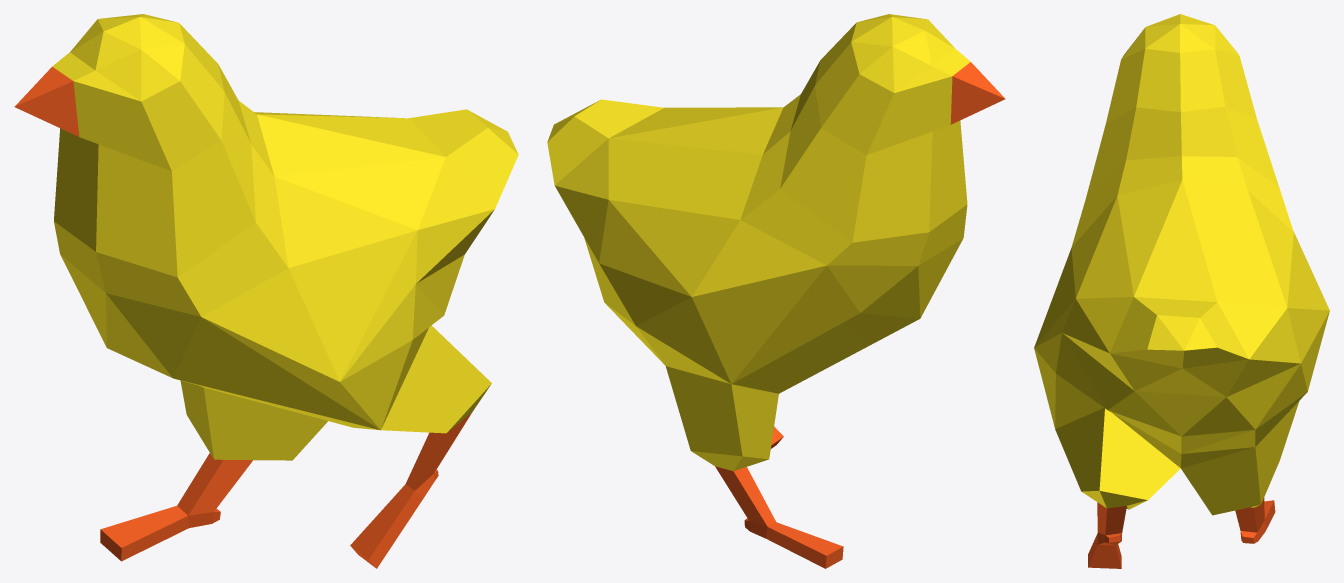
File: chickWalking6.obj
The picture shows the model from 3 angles, left to right: view 1: azimuth 30°, elevation 25°; view 2: azimuth 150°, elevation 25°; view 3: azimuth 270°, elevation 25°; orthographic projection. The views are drawn at different scales.
Parts seen in each view (by area): view 1: Icosphere.001_Icosphere.002; view 2: Icosphere.001_Icosphere.002; view 3: Icosphere.001_Icosphere.002.
Part boxes in pixels (box(x1,y1,x2,y2)): Icosphere.001_Icosphere.002: box(14, 14, 518, 568); Icosphere.001_Icosphere.002: box(547, 14, 1005, 568); Icosphere.001_Icosphere.002: box(1034, 14, 1329, 568).
Bounding box in the file's own units: 12.29 × 13.64 × 7.54.
